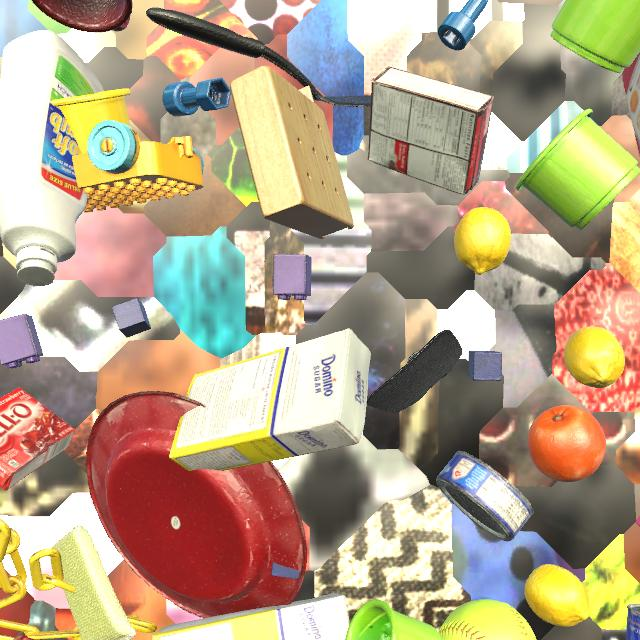ycb_002_master_chef_can: (626, 603, 640, 640)
ycb_003_cracker_box: (622, 52, 640, 156)
ycb_004_sugar_box: (169, 328, 371, 471), (152, 593, 350, 640)
ycb_007_tuna_fish_can: (436, 451, 534, 542)
ycb_008_pudding_box: (367, 66, 494, 195)
ycb_009_gelatin_box: (0, 387, 75, 491)
ycb_014_lemon: (524, 564, 590, 627), (454, 207, 511, 275), (564, 327, 625, 388)
ycb_017_orange: (528, 405, 606, 482)
